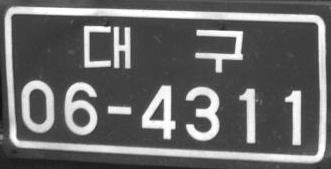0: (21, 78, 55, 133)
1: (232, 87, 268, 144), (277, 88, 310, 146)
3: (185, 85, 220, 142)
4: (141, 83, 176, 140)
6: (64, 80, 99, 136)
대구_D: (83, 25, 243, 72)
